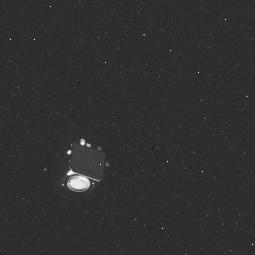proba_3_ocs: (55, 134, 110, 199)
